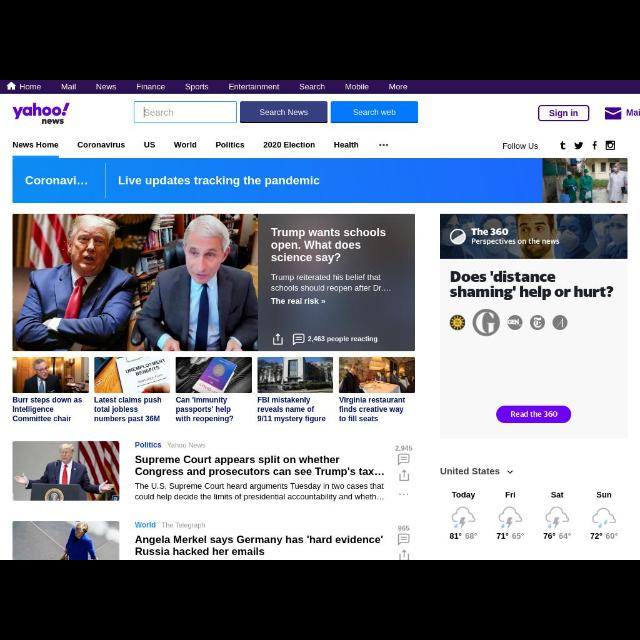icon: (474, 309, 501, 337), (552, 314, 568, 330), (508, 316, 522, 330), (530, 316, 544, 330), (605, 107, 621, 119), (293, 334, 305, 346), (398, 453, 409, 465), (273, 333, 283, 345), (399, 469, 409, 481), (398, 534, 409, 544), (399, 550, 408, 560), (6, 82, 16, 90), (574, 142, 584, 150), (606, 140, 614, 150), (592, 140, 598, 150), (560, 141, 566, 149), (506, 470, 514, 474), (322, 300, 326, 304)
image: (12, 214, 258, 350), (440, 214, 628, 258), (12, 442, 120, 501), (12, 521, 120, 559), (542, 158, 628, 204), (12, 356, 90, 394), (94, 356, 170, 394), (339, 356, 415, 394), (175, 357, 252, 393), (257, 357, 333, 393), (12, 103, 70, 125), (496, 506, 524, 540), (543, 506, 571, 540), (449, 506, 476, 540), (590, 508, 618, 538), (450, 316, 466, 330)
input: (134, 101, 236, 123)
multitab: (1, 81, 640, 93)
panel: (440, 213, 628, 439)
text: (136, 455, 384, 477), (135, 482, 385, 502), (135, 535, 383, 555), (451, 271, 614, 301), (272, 228, 386, 264), (118, 176, 320, 187), (271, 274, 391, 292), (94, 396, 162, 424), (258, 396, 326, 424), (13, 396, 83, 422), (339, 396, 405, 422), (176, 396, 234, 424), (308, 336, 378, 344), (135, 521, 205, 529), (25, 176, 87, 184), (440, 467, 500, 475), (134, 442, 206, 448), (230, 82, 280, 90), (511, 410, 557, 418), (263, 142, 315, 148), (270, 298, 320, 304), (260, 109, 308, 115), (77, 142, 125, 148), (502, 142, 538, 150), (13, 142, 59, 148), (354, 109, 396, 115), (144, 108, 174, 116), (550, 110, 578, 118), (345, 82, 369, 90), (451, 491, 475, 499), (136, 84, 166, 90), (186, 84, 208, 92), (216, 142, 244, 148), (300, 84, 326, 90), (334, 142, 358, 148), (19, 84, 41, 90), (96, 84, 118, 90), (174, 142, 196, 148), (389, 84, 407, 90), (626, 108, 640, 115), (396, 445, 412, 451), (596, 492, 612, 498), (62, 84, 76, 90), (144, 142, 156, 148), (552, 492, 564, 498), (398, 525, 409, 531), (505, 492, 515, 498), (379, 144, 389, 146), (399, 493, 408, 495)
textbutton: (240, 101, 328, 122), (330, 101, 418, 122), (496, 405, 572, 423), (538, 105, 590, 121)
